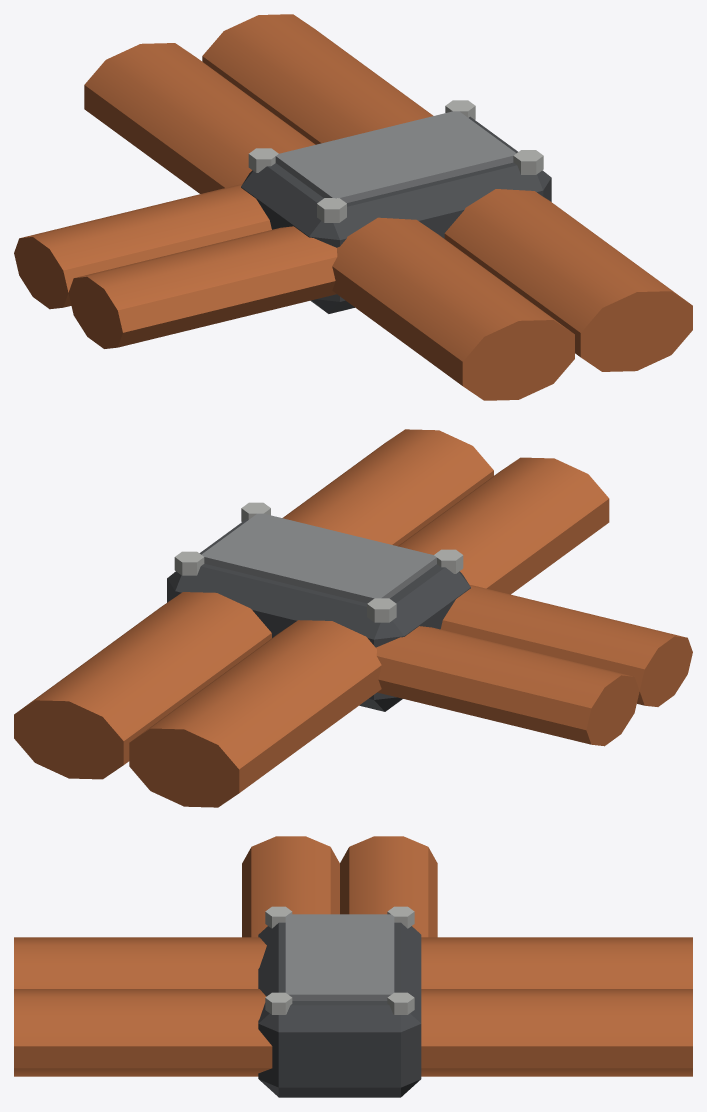
File: heat-pipe-t-left.glb
3 views of the same model, one above another, from view 1: azimuth 30°, elevation 25°; view 2: azimuth 150°, elevation 25°; view 3: azimuth 270°, elevation 25° (orthographic). The views are drawn at different scales.
Parts seen in each view (by area): view 1: body; view 2: body; view 3: body.
Part boxes in pixels (<box>): body: <box>14,14,692,400</box>; body: <box>14,429,692,807</box>; body: <box>14,836,692,1097</box>.
Bounding box in the file's own units: 0.685 × 0.16 × 1.
